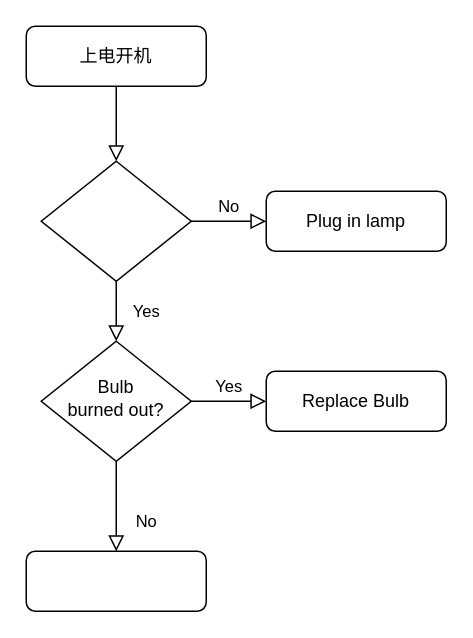
The diagram is 473 pixels wide and 638 high, and some of its shapes have lost their labels. The centre of each missing label's shape, as x and y in pixels:
"Lamp plugged in?" belongs at (115,220).
"Repair Lamp" belongs at (115,580).
